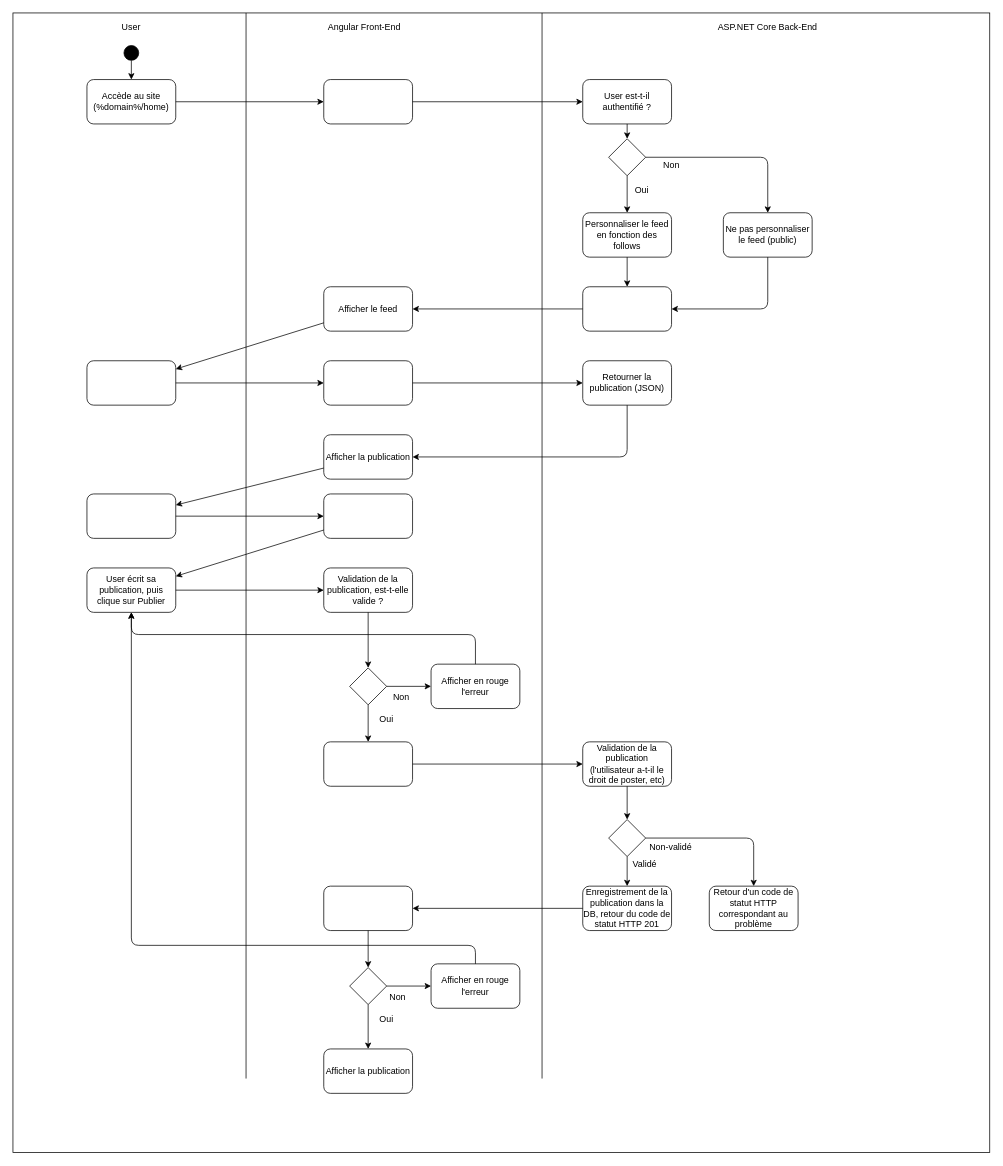
Image size: 1003x1166. Some labels were removed from this diagram. Here are the shapes that lost their labels. From the top down, the box of each, then its label:
(323, 79, 413, 124): Chargement du feed de publications public
(582, 286, 672, 331): Retourner le feed (JSON)
(86, 360, 176, 405): Clique sur une publication pour l'afficher
(323, 360, 413, 405): Chargement de la publication (JSON)
(86, 493, 176, 538): Clique sur "New" pour créer une nouvelle publication
(323, 493, 413, 538): Afficher la page de création de publication
(323, 741, 413, 786): Envoi de la publication (JSON)
(323, 885, 413, 931): HTTP Status de 201 ?
